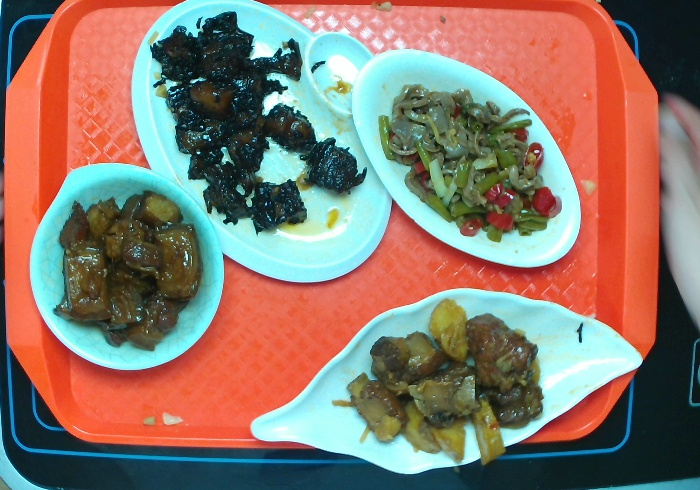RJxy-Bai_Se_Tuo_Yuan: (345, 42, 589, 274)
RJxy-Shu_Ye_Pan: (247, 285, 645, 483)
RJxy-Xiao_Jiao_Yuan_Wan: (27, 156, 229, 375)
RJxy-Zhan_Liao_Pan: (130, 2, 397, 288)
